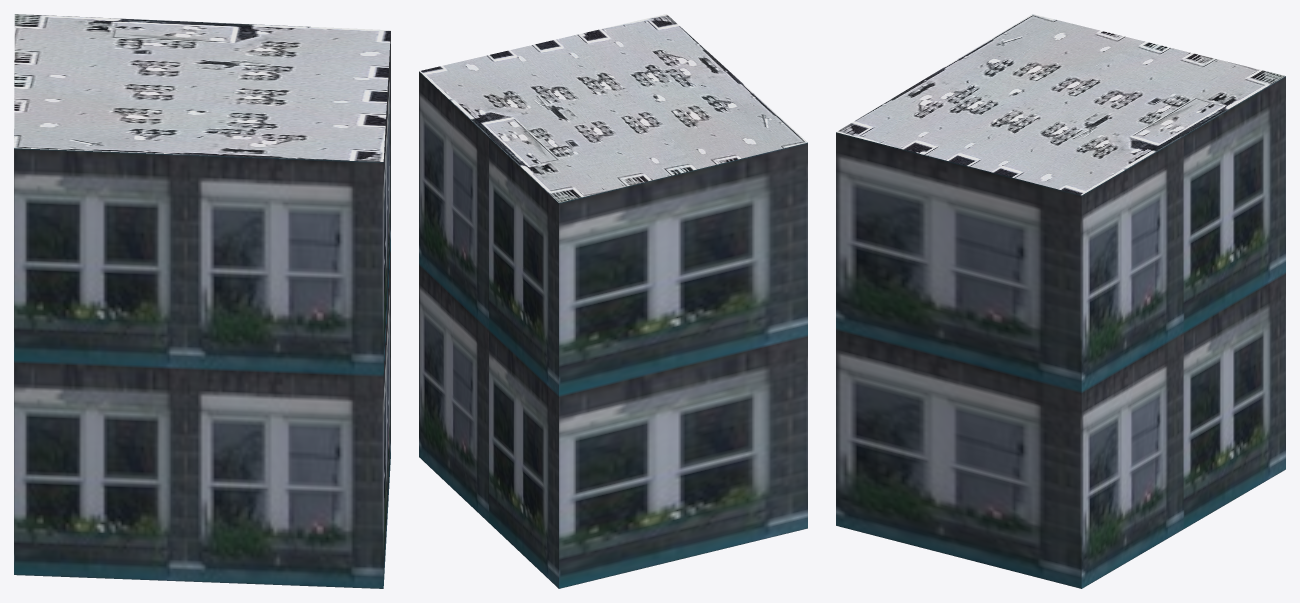
File: ResTex__564.fbx
3 renders of one model, left to right at view 1: azimuth 30°, elevation 25°; view 2: azimuth 150°, elevation 25°; view 3: azimuth 270°, elevation 25°, orthographic. The views are drawn at different scales.
Visible parts, largest first — view 1: CityEngineMaterial_11_m, CityEngineMaterial_8_m; view 2: CityEngineMaterial_11_m, CityEngineMaterial_8_m; view 3: CityEngineMaterial_11_m, CityEngineMaterial_8_m.
Part boxes in pixels (x1,y1,x2,y2): CityEngineMaterial_11_m: (14, 32, 390, 588); CityEngineMaterial_8_m: (14, 14, 390, 161); CityEngineMaterial_11_m: (419, 71, 807, 588); CityEngineMaterial_8_m: (419, 14, 807, 202); CityEngineMaterial_11_m: (836, 76, 1285, 588); CityEngineMaterial_8_m: (836, 14, 1285, 195).
Size of the model in its own units: 5.93 by 6 by 6.22.
2 materials, 2 textured.
